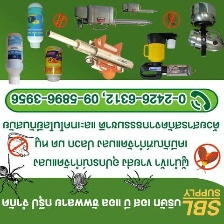insecticide: (3, 30, 25, 86), (25, 0, 45, 50), (43, 44, 64, 83)
